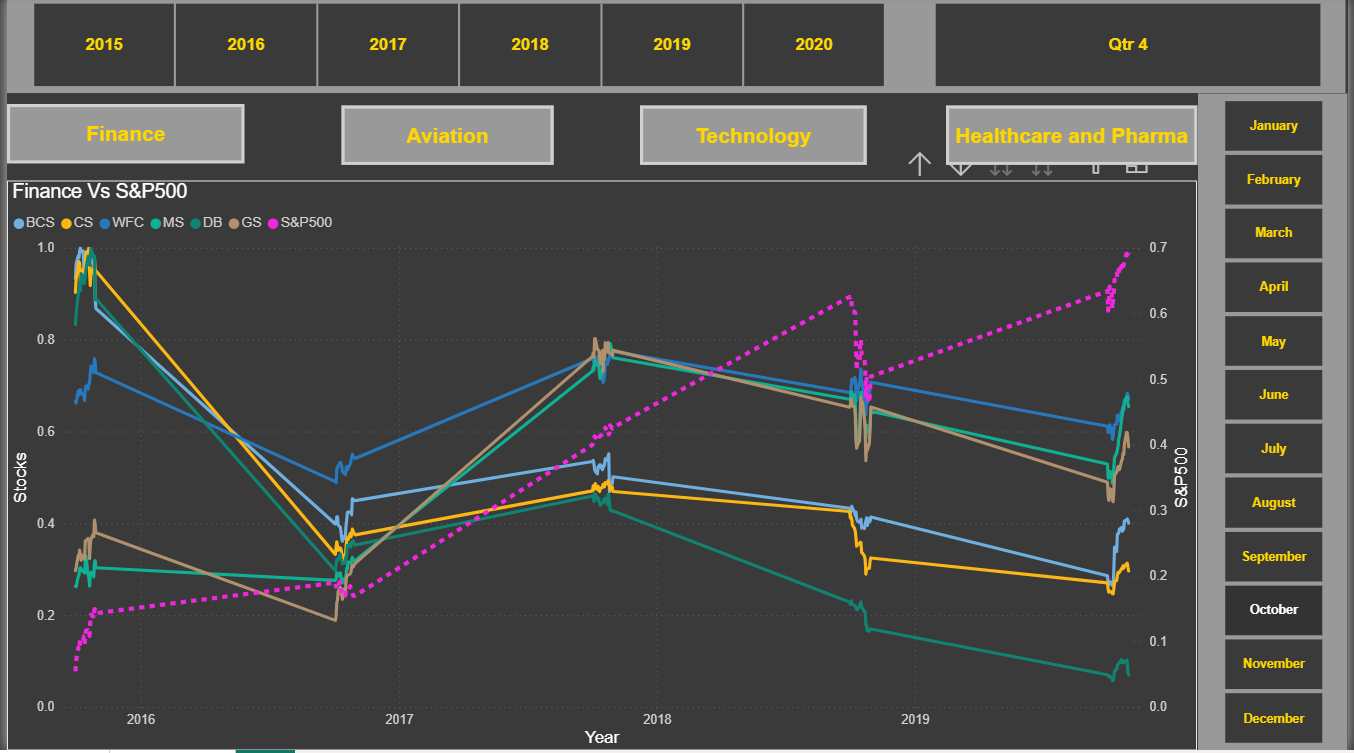

The page's visual inventory and layout, read from the dashboard file:
{"tool":"powerbi","page":{"name":"5 Years","canvas":[1280,720],"ordinal":0},"visuals":[{"type":"lineChart","title":"Finance Vs S&P500","fields":{"Y":["Avg(normalized_5_Years_data.BCS)","Avg(normalized_5_Years_data.CS)","Avg(normalized_5_Years_data.WFC)","Avg(normalized_5_Years_data.MS)","Avg(normalized_5_Years_data.DB)","Avg(normalized_5_Years_data.GS)"],"Category":["normalized_5_Years_data.Date.Variation.Date Hierarchy.Year","normalized_5_Years_data.Date.Variation.Date Hierarchy.Quarter","normalized_5_Years_data.Date.Variation.Date Hierarchy.Month","normalized_5_Years_data.Date.Variation.Date Hierarchy.Day"],"Y2":["Avg(normalized_5_Years_data.S&P500)"]},"box":[0,175.8,1135.8,545.4],"z":1000},{"type":"slicer","title":"Year Slicer","fields":{"Values":["normalized_5_Years_data.Date.Variation.Date Hierarchy.Year"]},"box":[0,0,861.5,92.9],"z":4000},{"type":"slicer","title":"Month Slicer","fields":{"Values":["normalized_5_Years_data.Date.Variation.Date Hierarchy.Month"]},"box":[1137.1,92.9,142.9,627.1],"z":5000},{"type":"slicer","title":"Quarter Slicer","fields":{"Values":["normalized_5_Years_data.Date.Variation.Date Hierarchy.Quarter"]},"box":[861.5,0,417.6,92.9],"z":6000},{"type":"actionButton","title":"Aviation Button","box":[319.1,104,202.5,56.9],"z":7000},{"type":"actionButton","title":"Technology Button","box":[604.9,104,216.4,56.9],"z":8000},{"type":"actionButton","title":"Finance Button","box":[0,103.8,226.9,56.9],"z":9000},{"type":"actionButton","title":"Healthcare and Pharma Button","box":[896.2,104,240,56.9],"z":10000}]}

Visuals, with their boxes in screenshot pixels (x1, y1, x2, y2), scaled from the page's 1280x720 canvas onto the 1354x753 screenshot:
"Finance Vs S&P500" lineChart: bbox=[0, 184, 1201, 752]
"Year Slicer" slicer: bbox=[0, 0, 911, 97]
"Month Slicer" slicer: bbox=[1203, 97, 1353, 752]
"Quarter Slicer" slicer: bbox=[911, 0, 1353, 97]
"Aviation Button" actionButton: bbox=[338, 109, 552, 168]
"Technology Button" actionButton: bbox=[640, 109, 869, 168]
"Finance Button" actionButton: bbox=[0, 109, 240, 168]
"Healthcare and Pharma Button" actionButton: bbox=[948, 109, 1202, 168]
